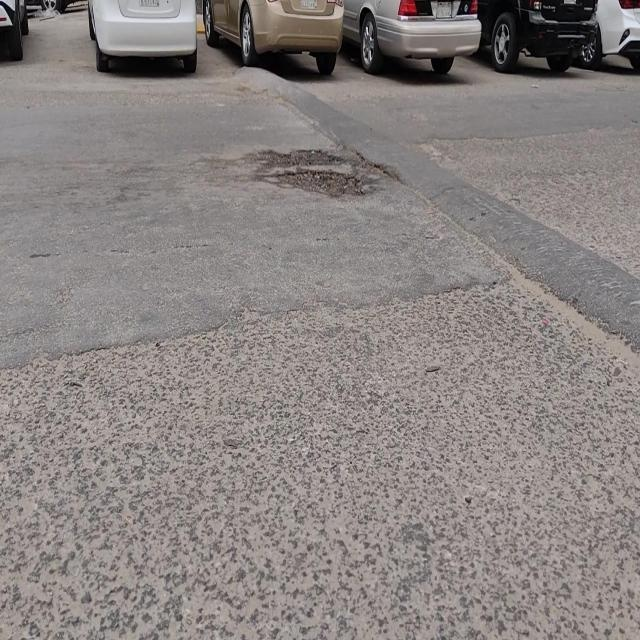pothole: (241, 69, 640, 349), (278, 172, 368, 197), (254, 148, 343, 169)
